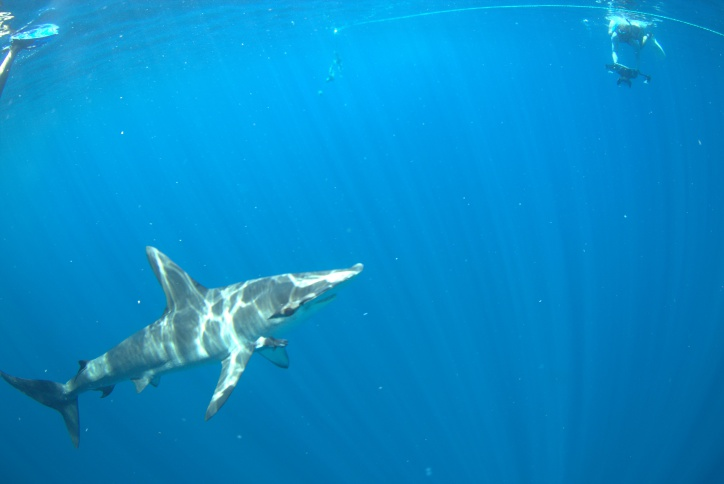Hammer: (1, 229, 403, 464)
